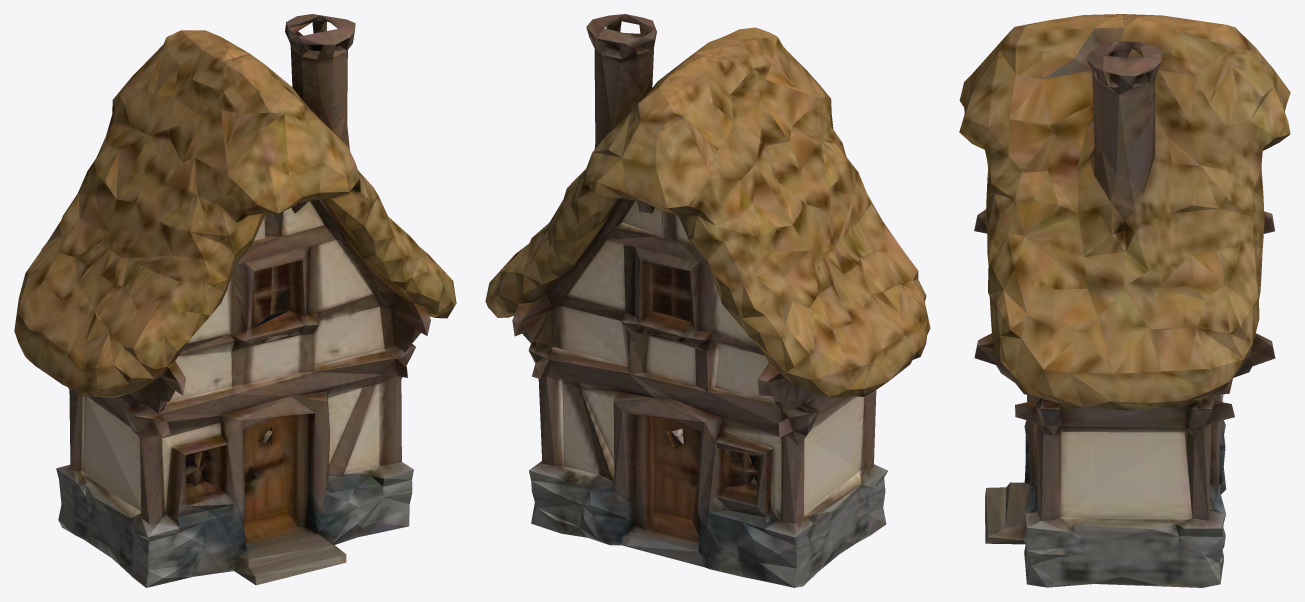
Rendered from house_straw_thatch_lod1.glb.
The picture shows the model from 3 angles, left to right: view 1: azimuth 30°, elevation 25°; view 2: azimuth 150°, elevation 25°; view 3: azimuth 270°, elevation 25°; orthographic projection. The views are drawn at different scales.
Visible parts, largest first — view 1: house_straw_thatch_lod1; view 2: house_straw_thatch_lod1; view 3: house_straw_thatch_lod1.
Part boxes in pixels (x1,y1,x2,y2): house_straw_thatch_lod1: [14, 14, 456, 587]; house_straw_thatch_lod1: [485, 14, 930, 587]; house_straw_thatch_lod1: [959, 14, 1290, 587].
Bounding box in the file's own units: 5.76 × 6.99 × 4.09.
Materials: 1 (1 with a texture image).
